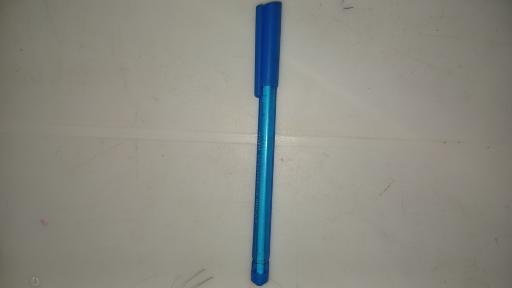pen: (252, 1, 283, 287)
